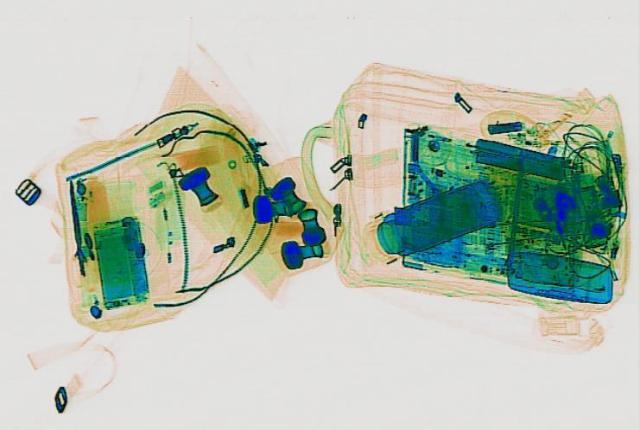Knife: (61, 177, 89, 273)
